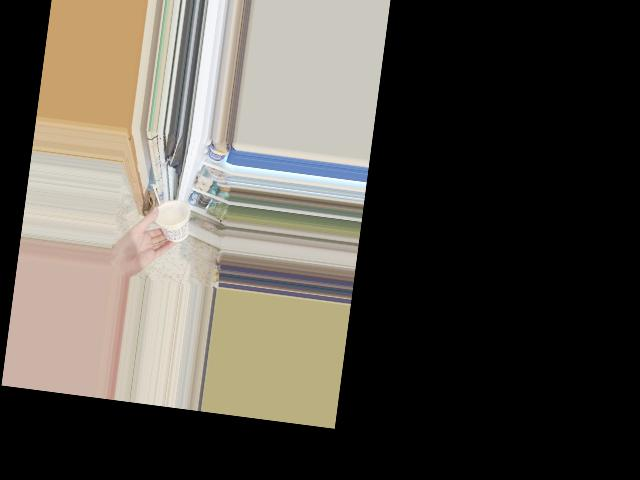cotage: (152, 197, 189, 244)
